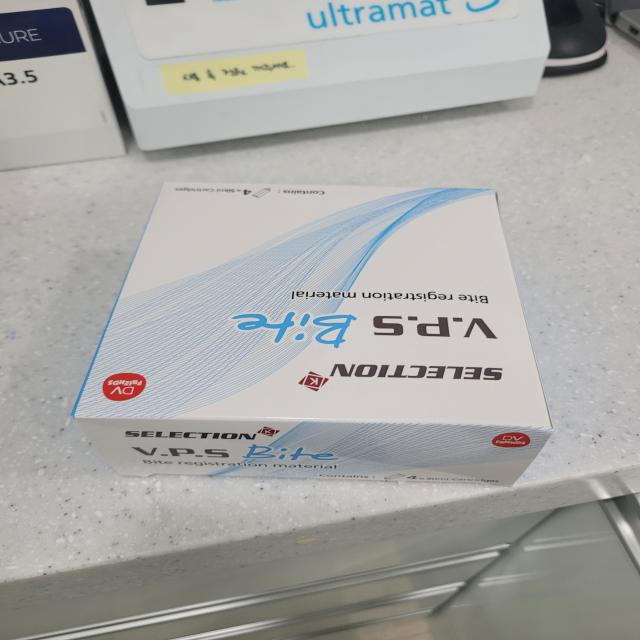impression: (66, 158, 574, 517)
